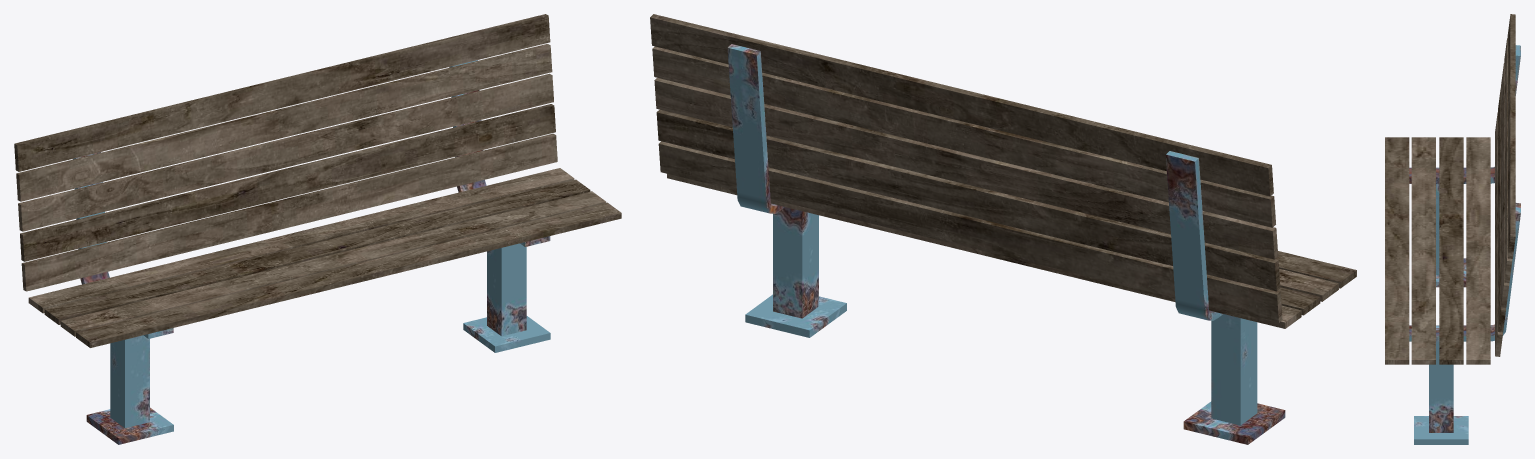
The model's file is bench.glb.
3 views of the same model, side by side, from view 1: azimuth 30°, elevation 25°; view 2: azimuth 150°, elevation 25°; view 3: azimuth 270°, elevation 25° (orthographic). The views are drawn at different scales.
Visible parts, largest first — view 1: bench; view 2: bench; view 3: bench.
Boxes of the visible parts, bbox=[...] form: bench: bbox=[14, 14, 621, 444]; bench: bbox=[650, 14, 1356, 444]; bench: bbox=[1385, 14, 1520, 444].
Bounding box in the file's own units: 2.52 × 1.22 × 0.6499.
Materials: 1 (1 with a texture image).
